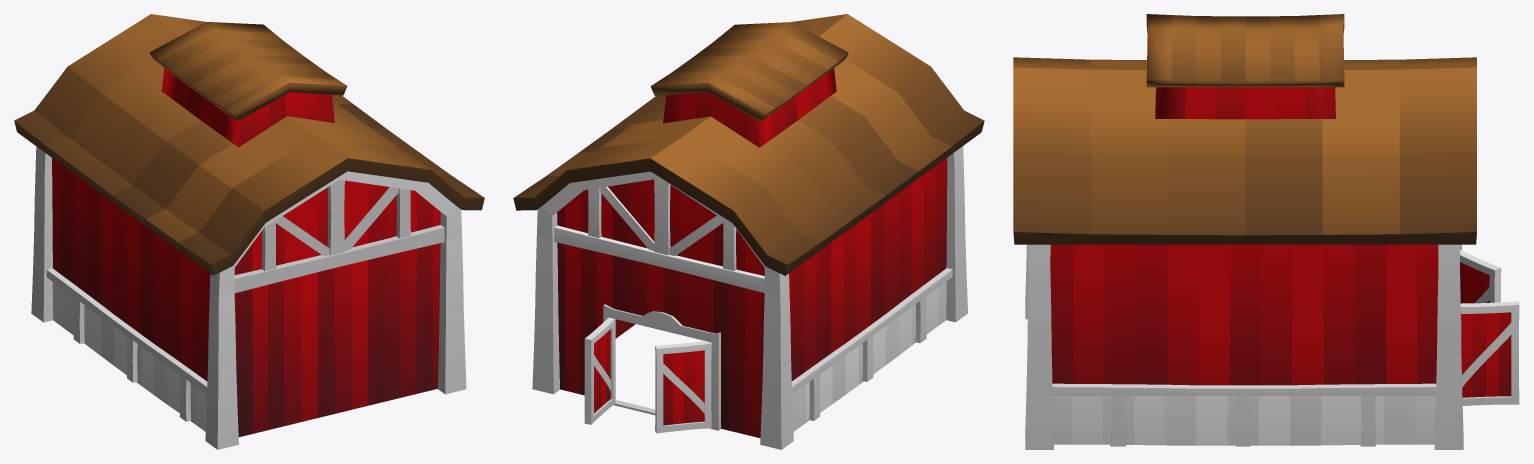
Rendered from Granero.fbx.
The picture shows the model from 3 angles, left to right: view 1: azimuth 30°, elevation 25°; view 2: azimuth 150°, elevation 25°; view 3: azimuth 270°, elevation 25°; orthographic projection. The views are drawn at different scales.
Visible parts, largest first — view 1: Cube.006; view 2: Cube.006; view 3: Cube.006.
Part boxes in pixels (box(x1,y1,x2,y2)): Cube.006: box(14, 14, 484, 449); Cube.006: box(513, 14, 984, 449); Cube.006: box(1013, 14, 1519, 449).
Bounding box in the file's own units: 6.05 × 8.23 × 6.33.
